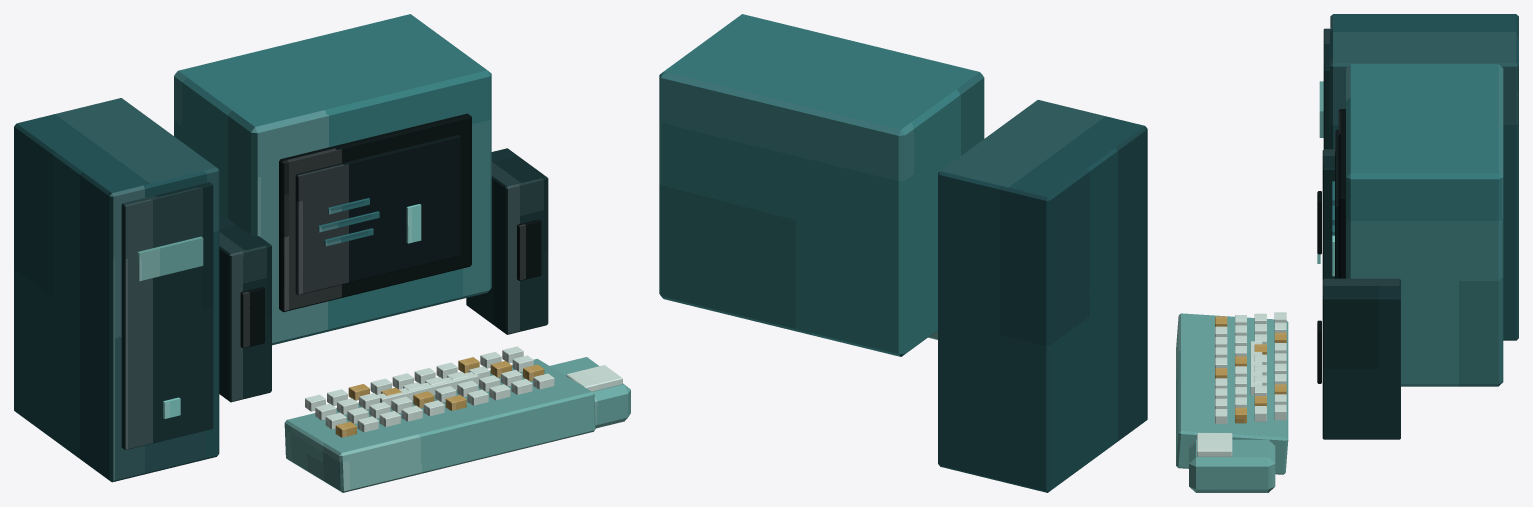
The model's file is retro_computer_tower_teal.glb.
3 views of the same model, side by side, from view 1: azimuth 30°, elevation 25°; view 2: azimuth 150°, elevation 25°; view 3: azimuth 270°, elevation 25° (orthographic). The views are drawn at different scales.
Visible parts, largest first — view 1: Tower, MonitorShell, TowerFace, MonitorGlow, KeyboardBody, MonitorFace, Speaker_R, Speaker_L, DriveBay, Mouse, SpeakerCone_L, SpeakerCone_R (+2 smaller); view 2: MonitorShell, Tower; view 3: MonitorShell, Tower, Speaker_R, KeyboardBody, Mouse, Speaker_L, MonitorFace, TowerFace, MouseButton, MonitorGlow, SpaceBar.
Part boxes in pixels (x1,y1,x2,y2): Tower: [14, 98, 219, 482]; MonitorShell: [174, 14, 491, 345]; TowerFace: [121, 182, 213, 449]; MonitorGlow: [295, 135, 460, 295]; KeyboardBody: [284, 358, 595, 492]; MonitorFace: [279, 113, 471, 312]; Speaker_R: [466, 148, 548, 334]; Speaker_L: [219, 217, 271, 402]; DriveBay: [137, 236, 203, 281]; Mouse: [550, 357, 630, 428]; SpeakerCone_L: [240, 287, 264, 348]; SpeakerCone_R: [517, 219, 541, 280]; MonitorShell: [659, 14, 984, 356]; Tower: [938, 100, 1147, 492]; MonitorShell: [1346, 64, 1503, 386]; Tower: [1330, 14, 1518, 340]; Speaker_R: [1322, 278, 1400, 439]; KeyboardBody: [1176, 313, 1288, 474]; Mouse: [1189, 439, 1275, 492]; Speaker_L: [1322, 149, 1334, 279]; MonitorFace: [1338, 109, 1345, 278]; TowerFace: [1323, 28, 1330, 149]; MouseButton: [1197, 433, 1232, 456]; MonitorGlow: [1335, 129, 1338, 278]; SpaceBar: [1250, 341, 1262, 395].
Size of the model in its own units: 1.27 by 0.84 by 0.8729.
Materials: 1 (1 with a texture image).
